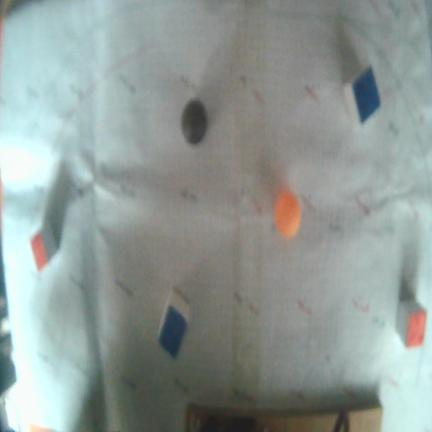circle_blue: (181, 99, 208, 145)
circle_orange: (274, 189, 301, 238)
rectangle_blue: (159, 306, 186, 360)
rectangle_orange: (30, 232, 49, 272)
square_blue: (350, 64, 381, 126)
square_orange: (407, 310, 426, 345)
